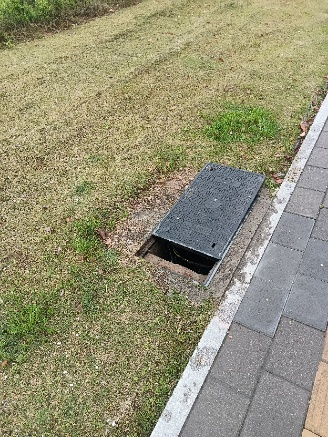uncovered: (132, 162, 266, 286)
